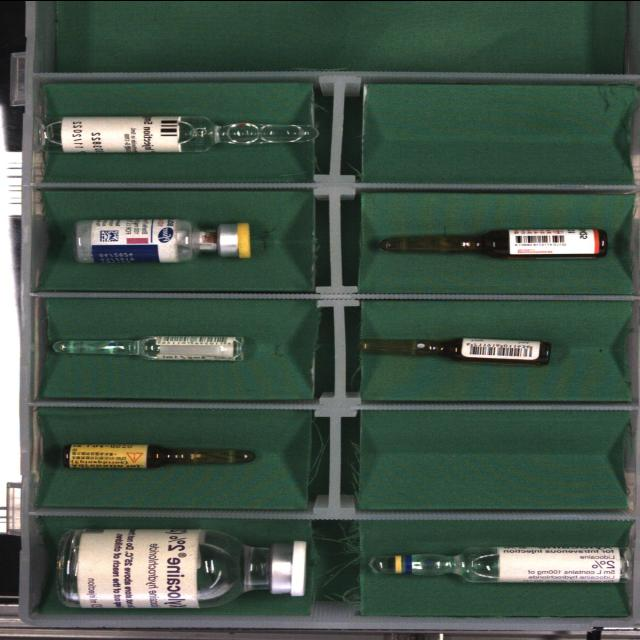Vials: (58, 528, 307, 608), (75, 218, 251, 262)
